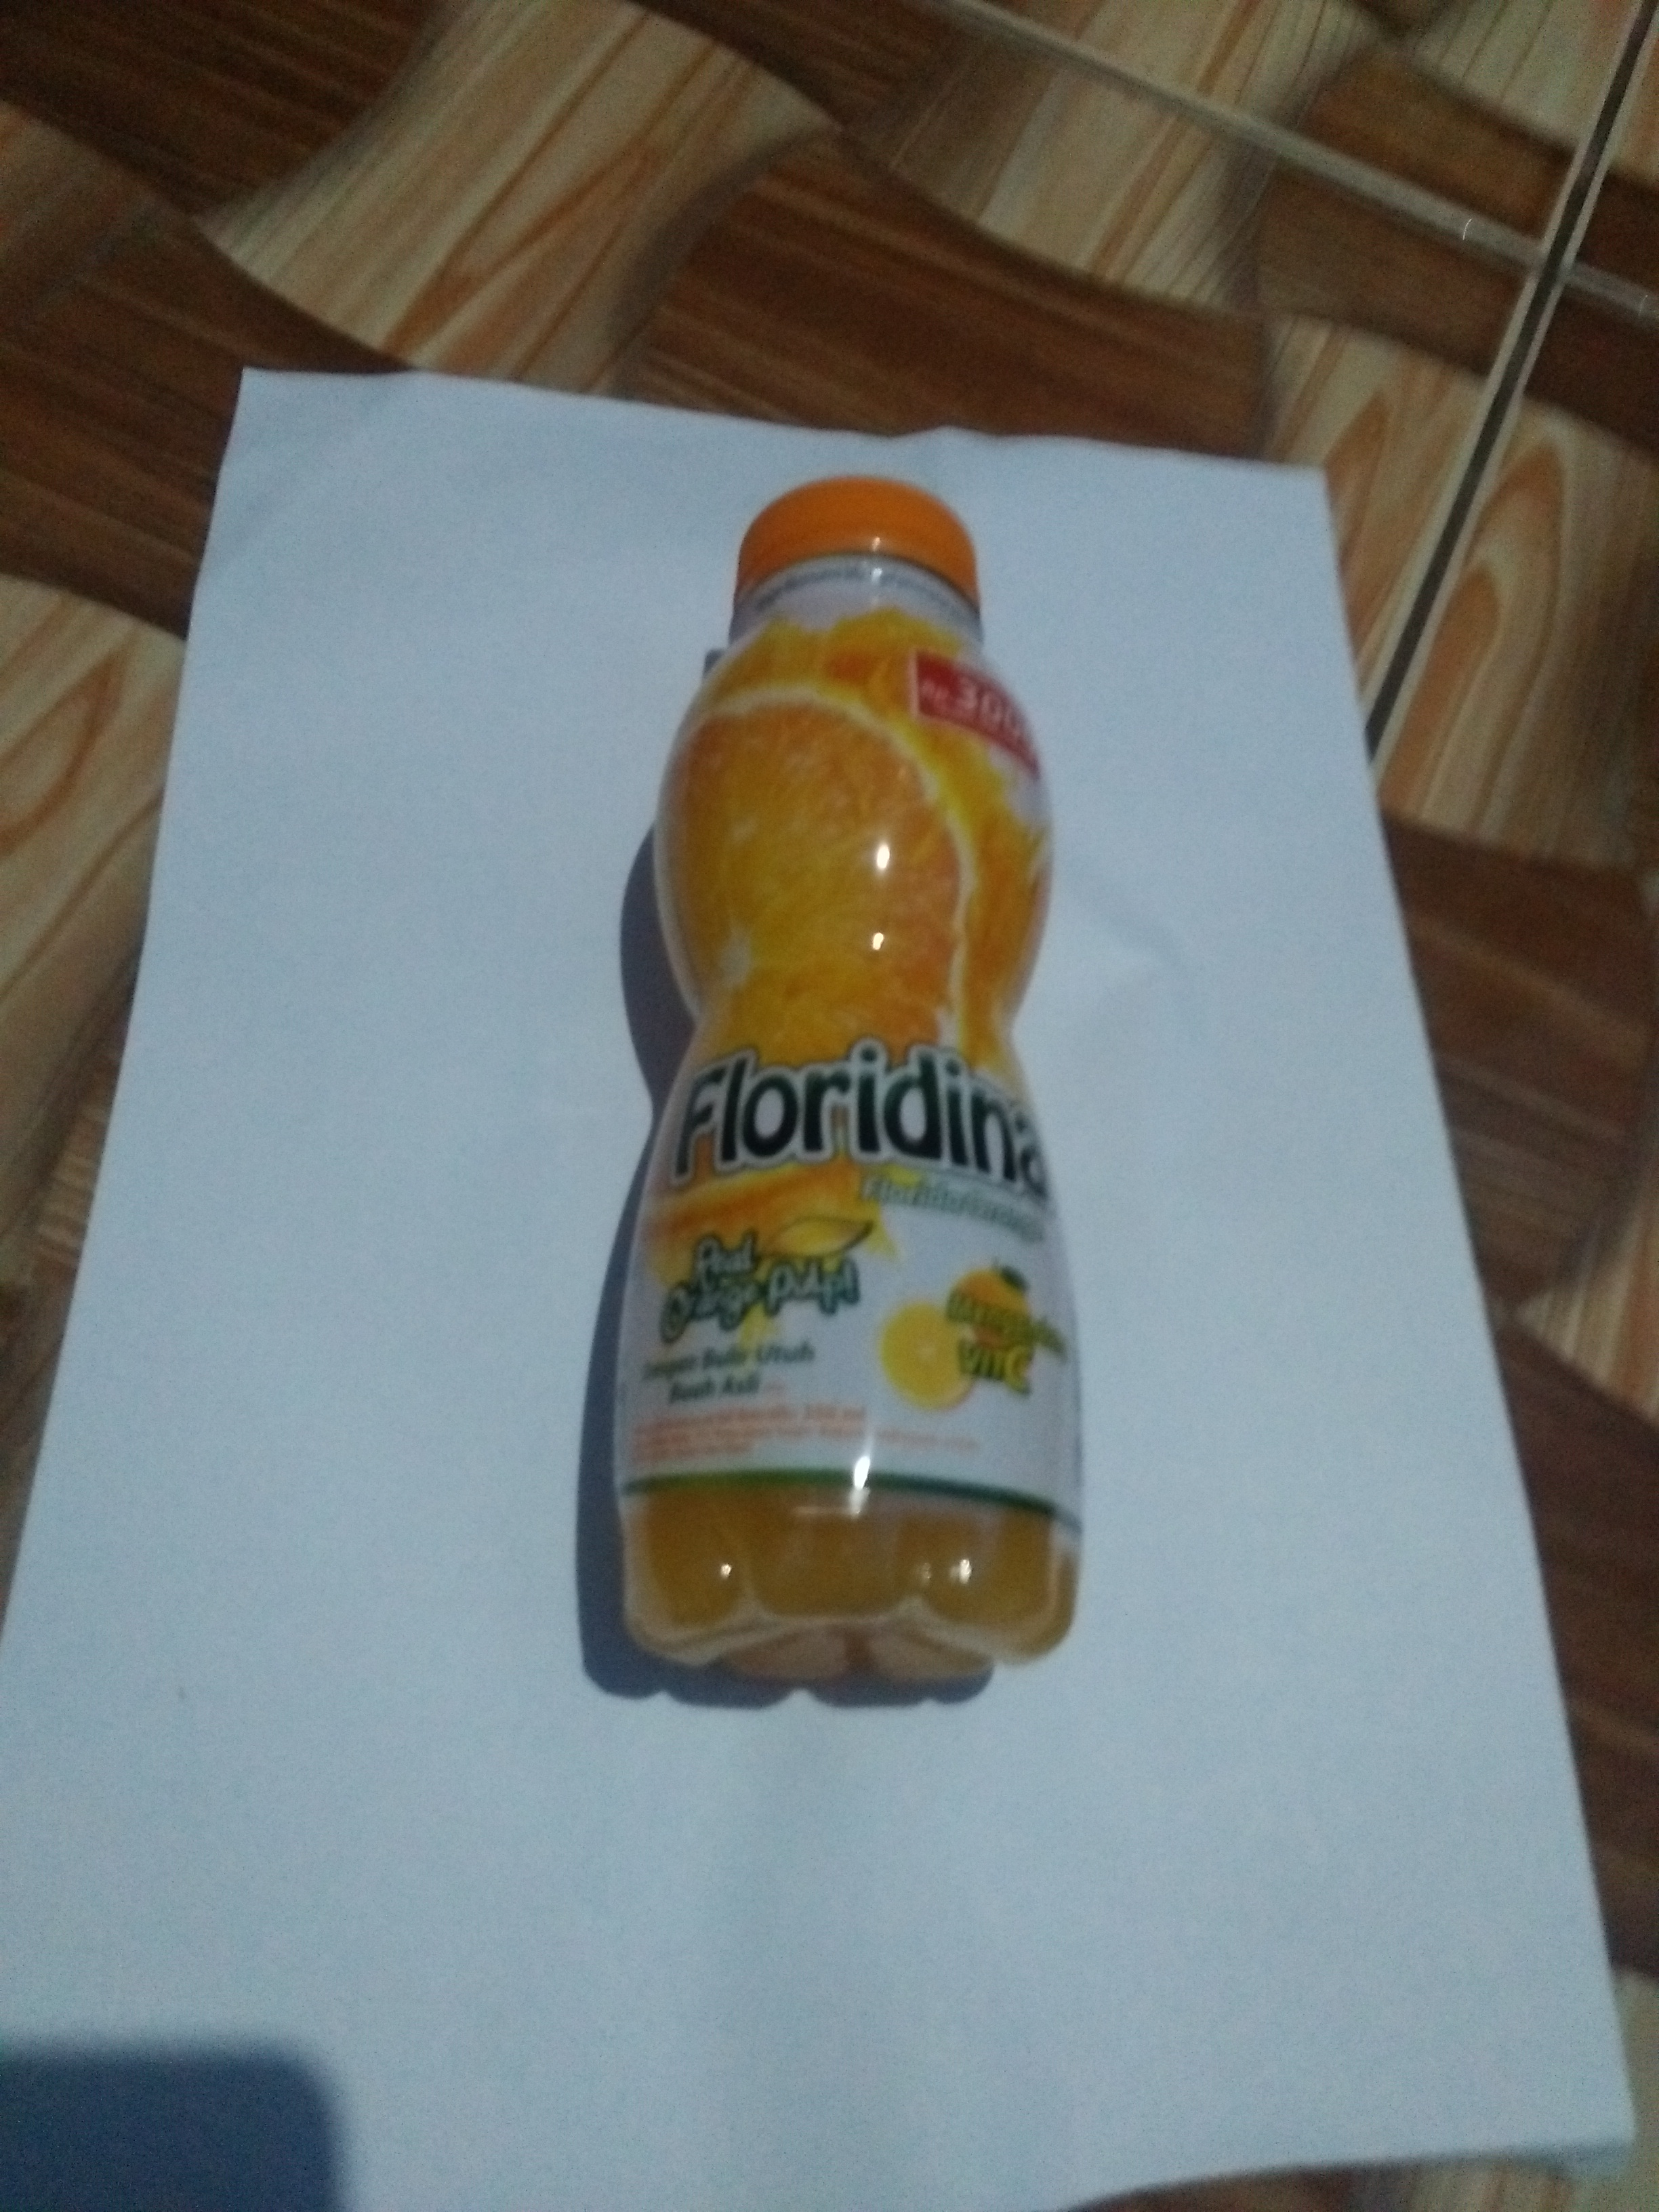Floridina: (593, 455, 1147, 1716)
